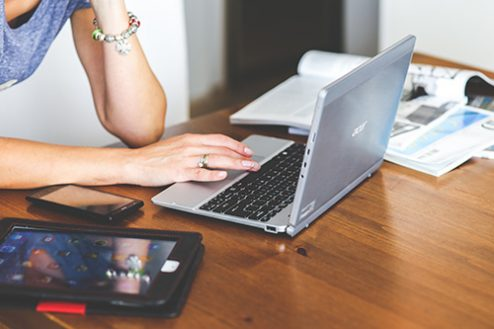Open Book: (241, 49, 494, 134)
